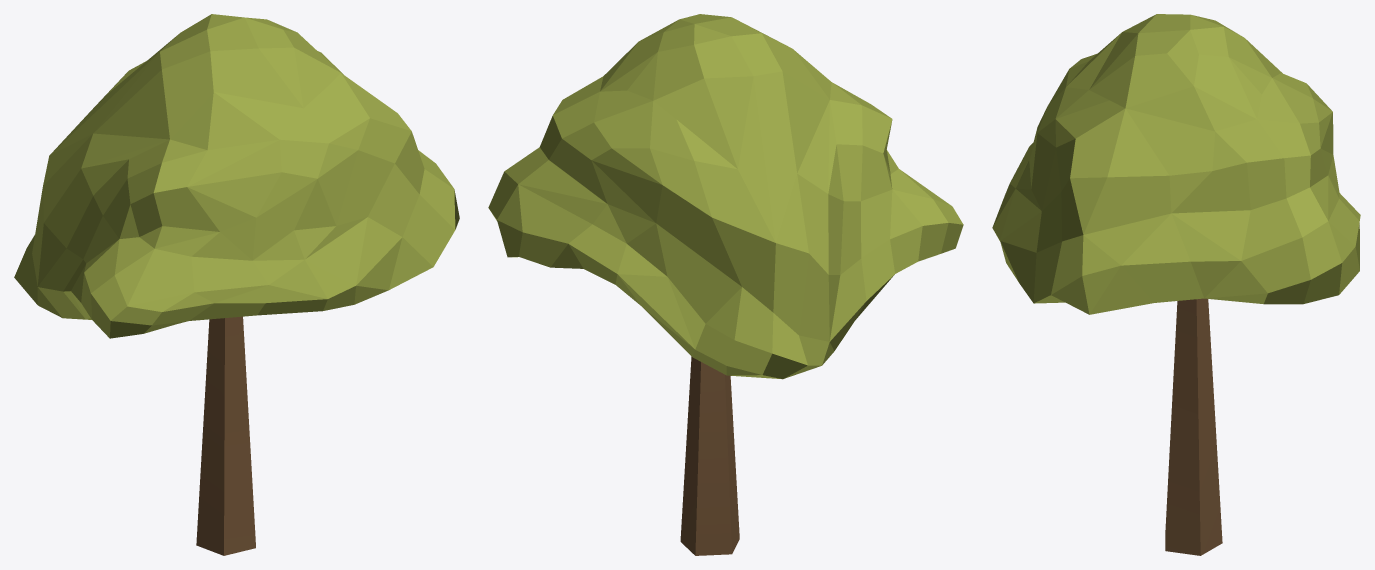
The model's file is wild_pz_tree_20_lt.glb.
3 renders of one model, left to right at view 1: azimuth 30°, elevation 25°; view 2: azimuth 150°, elevation 25°; view 3: azimuth 270°, elevation 25°, orthographic.
Parts seen in each view (by area): view 1: pg_tree_20_lt; view 2: pg_tree_20_lt; view 3: pg_tree_20_lt.
Boxes of the visible parts, bbox=[...] form: pg_tree_20_lt: bbox=[14, 14, 459, 555]; pg_tree_20_lt: bbox=[488, 14, 963, 555]; pg_tree_20_lt: bbox=[992, 14, 1360, 555].
Size of the model in its own units: 3.31 by 4.46 by 2.85.
